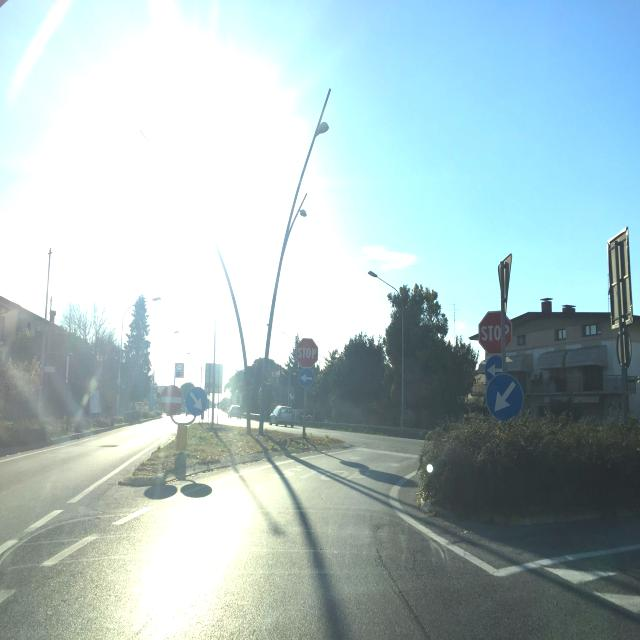car: (270, 405, 295, 427), (228, 405, 242, 419)
